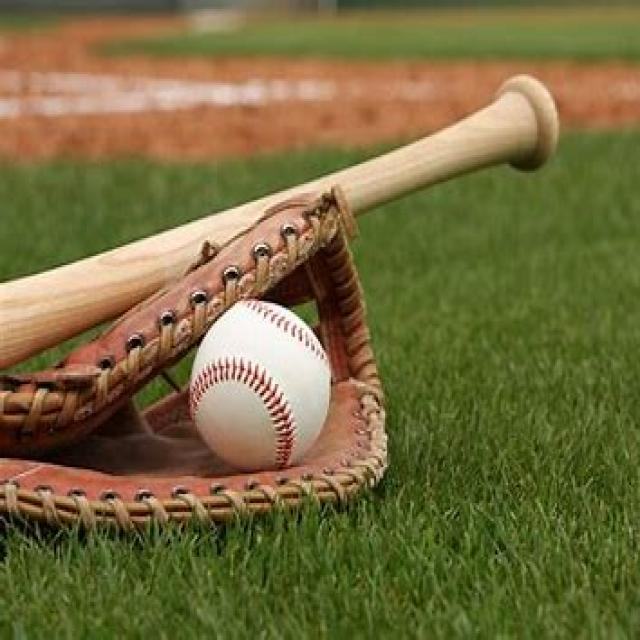ball: (190, 296, 334, 471)
